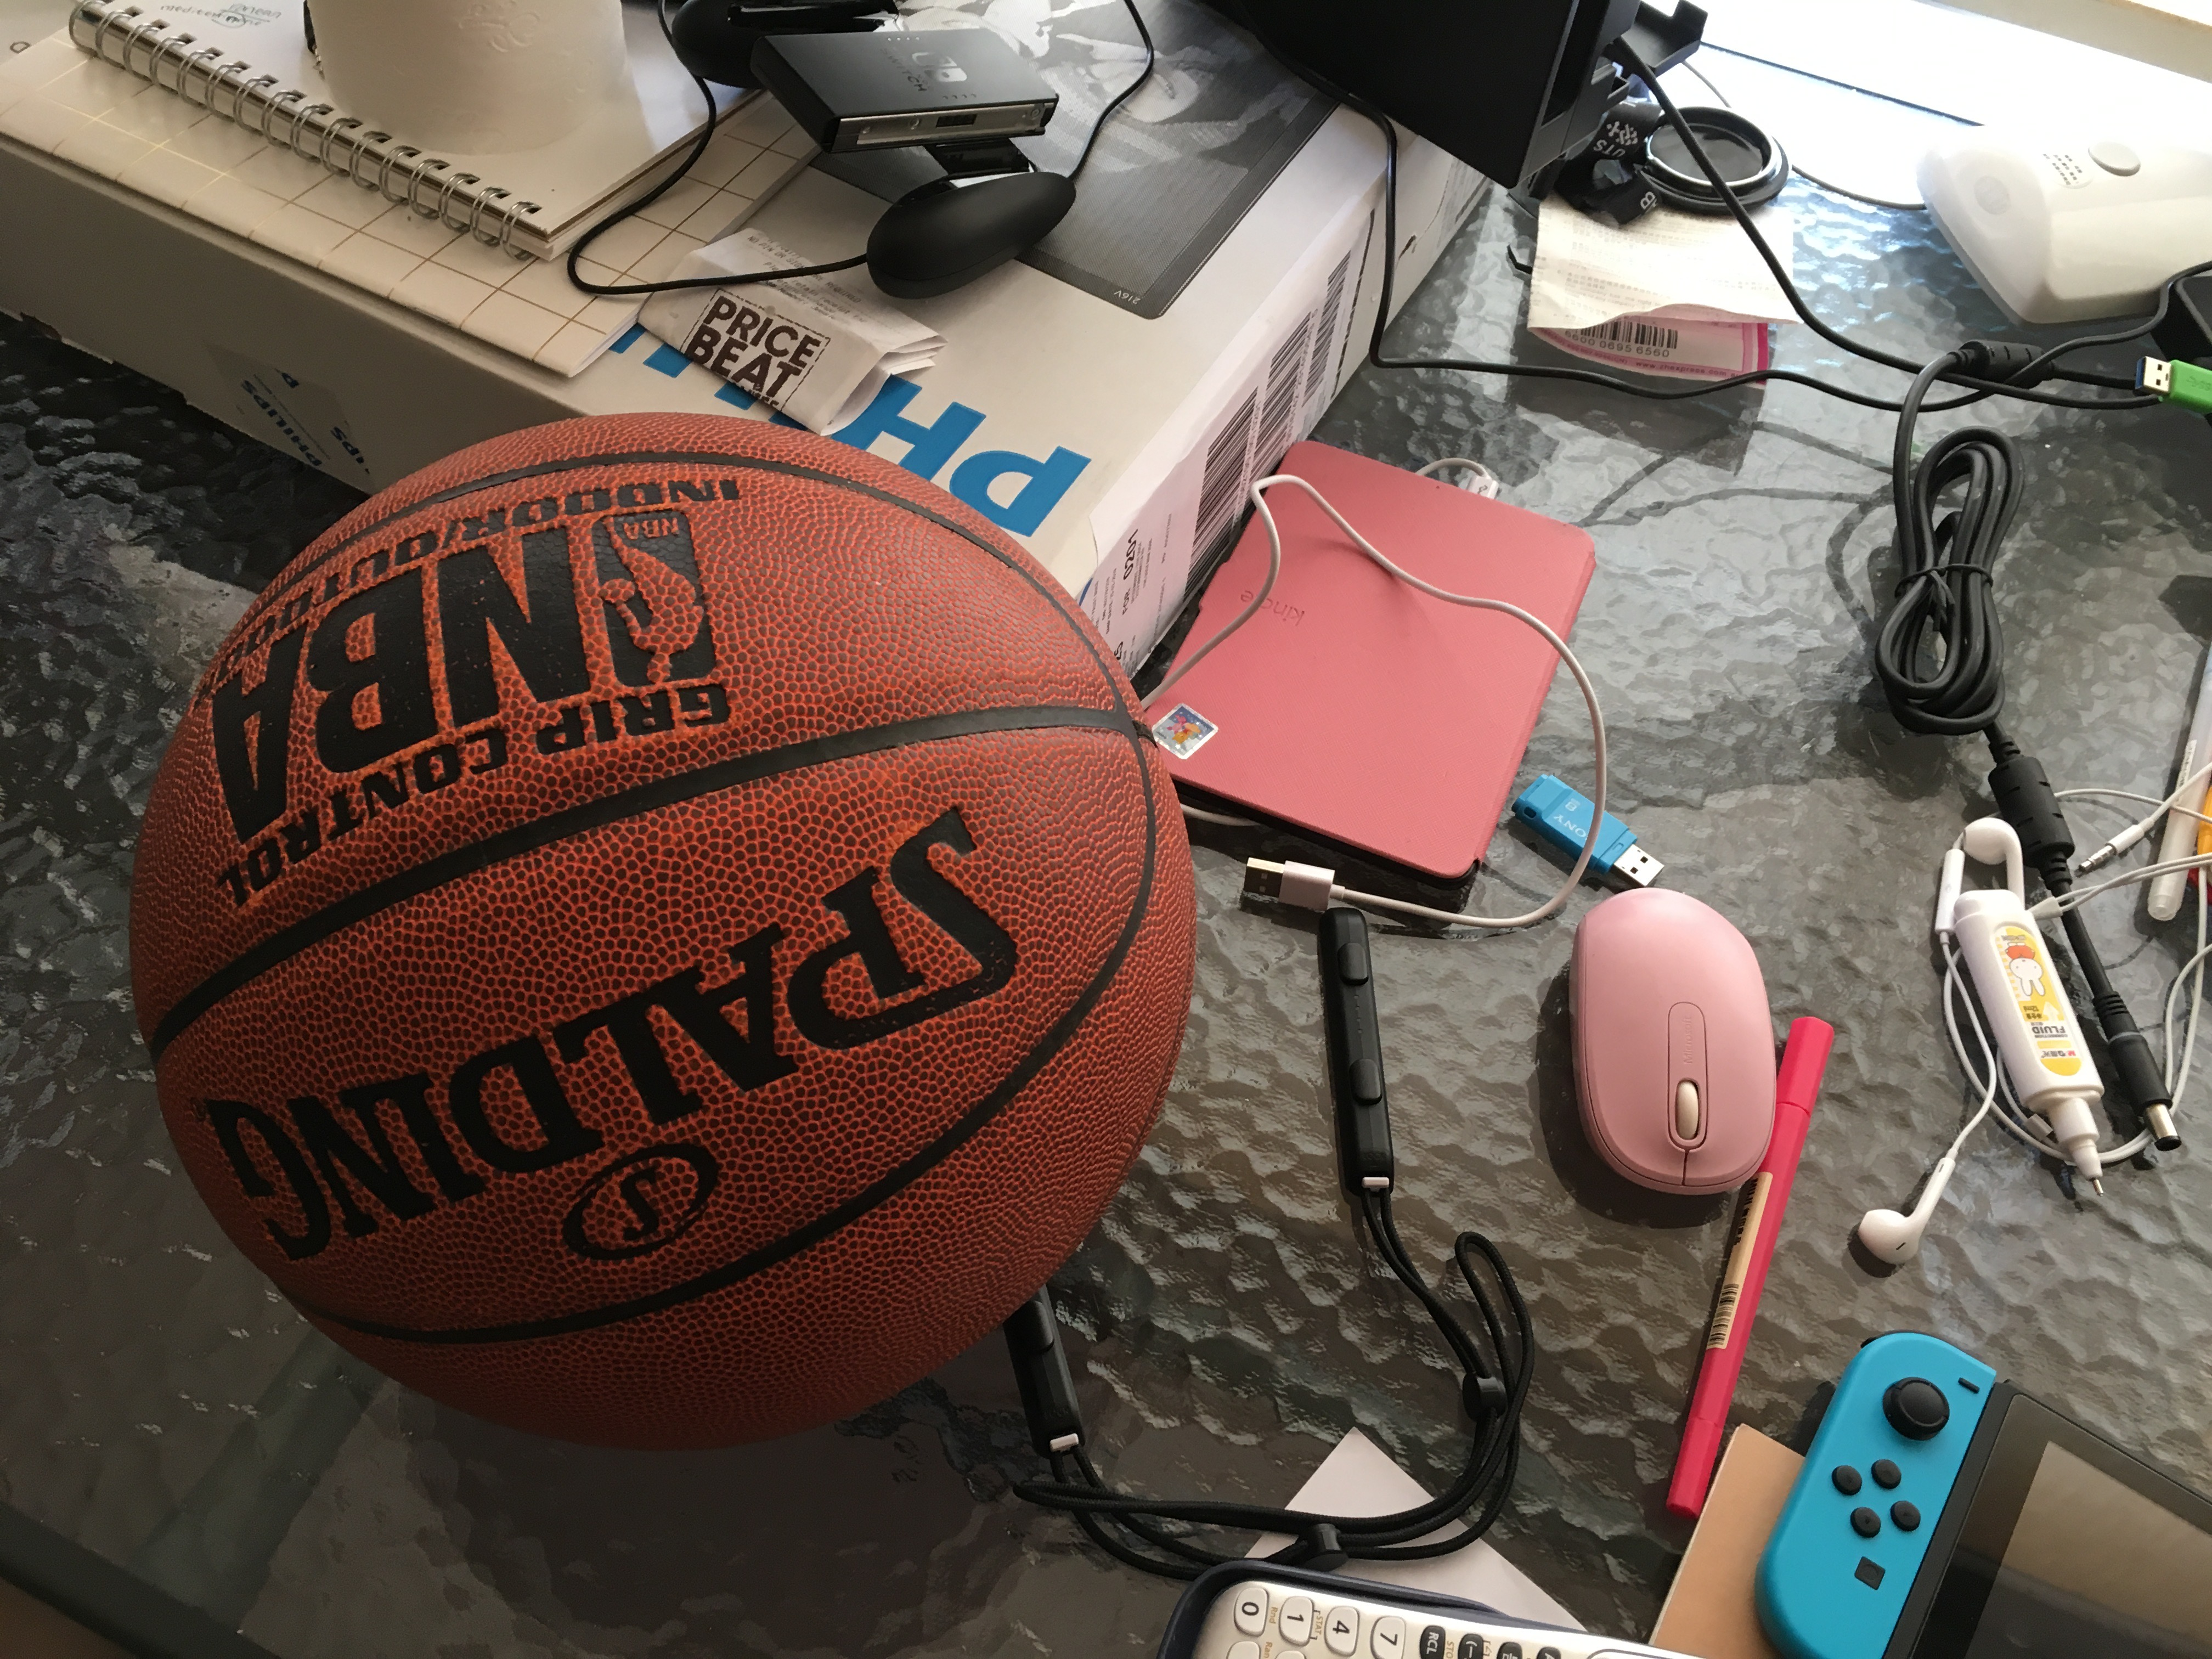Basketball: (118, 406, 1202, 1462)
NintendoSwitch: (1752, 1323, 2210, 1659)
